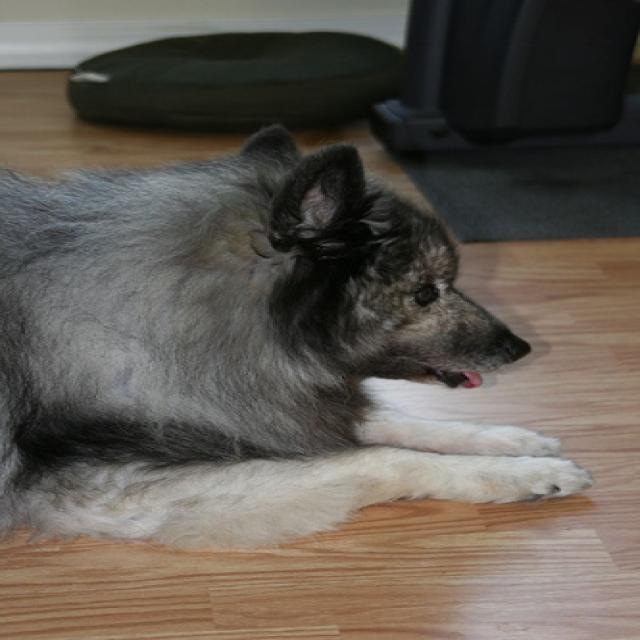dog-keeshond: (2, 125, 596, 557)
